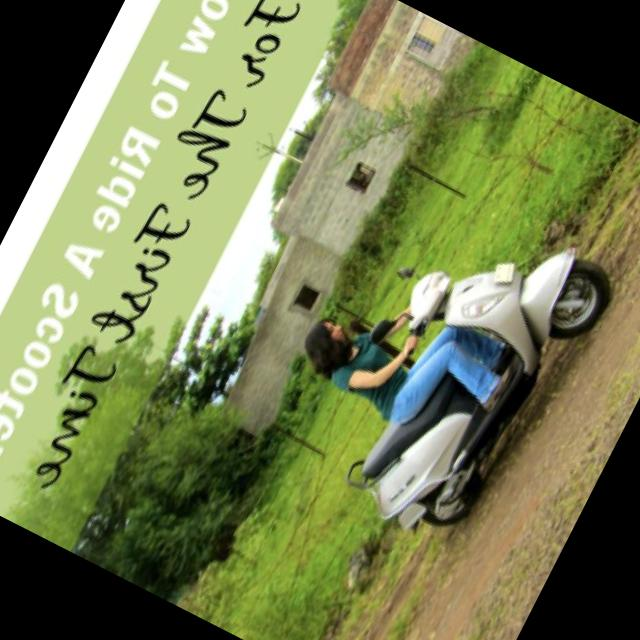bareface: (288, 306, 364, 388)
